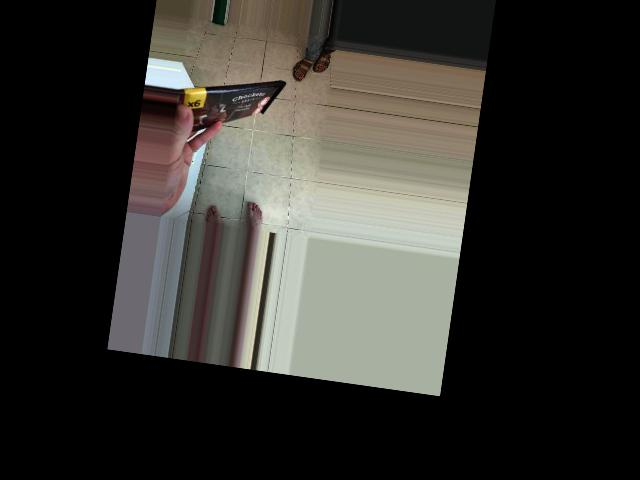chocolate: (215, 68, 297, 182)
